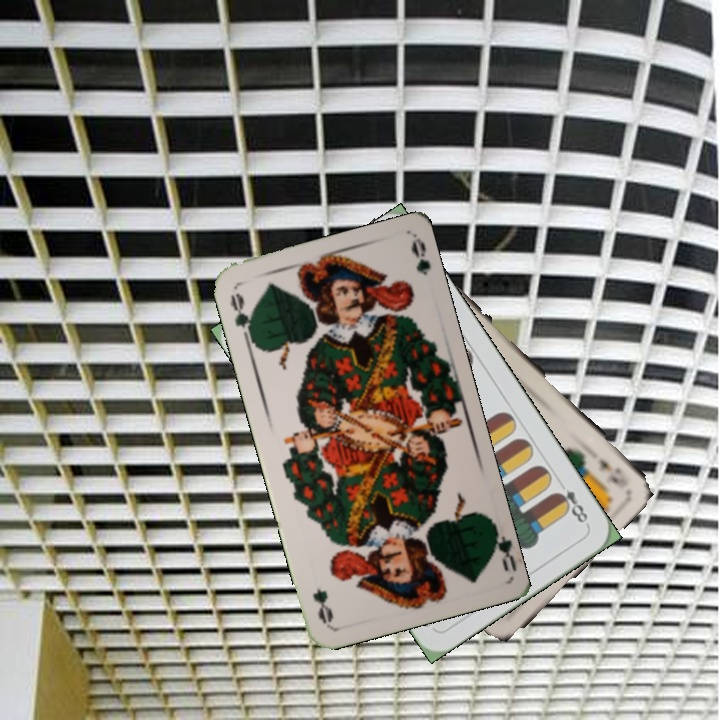E8: (550, 476, 591, 529)
EK: (594, 454, 632, 491)
GO: (486, 517, 516, 575), (226, 289, 255, 345)
